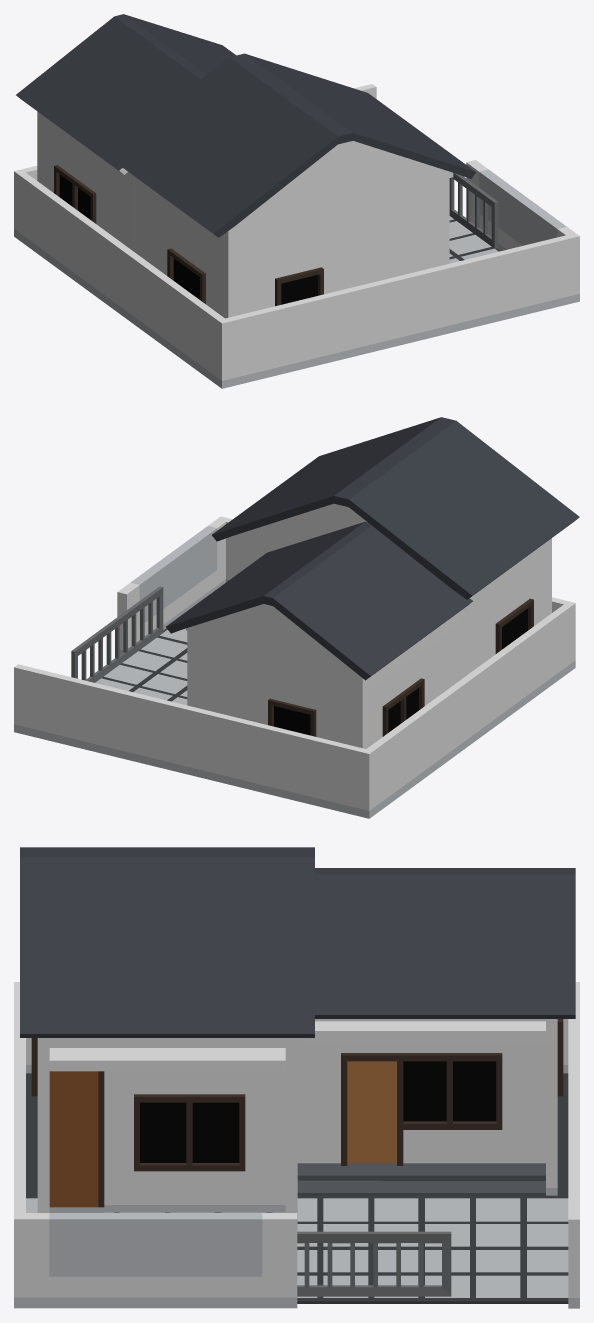
The model's file is house1.glb.
The picture shows the model from 3 angles, top to bottom: view 1: azimuth 30°, elevation 25°; view 2: azimuth 150°, elevation 25°; view 3: azimuth 270°, elevation 25°; orthographic projection. The views are drawn at different scales.
Parts seen in each view (by area): view 1: Cube.033; view 2: Cube.033; view 3: Cube.033.
Boxes of the visible parts, x1,y1,x2,y2 form: Cube.033: [14, 14, 579, 388]; Cube.033: [14, 417, 579, 818]; Cube.033: [14, 847, 579, 1308].
Bounding box in the file's own units: 9.92 × 5.77 × 9.8.
